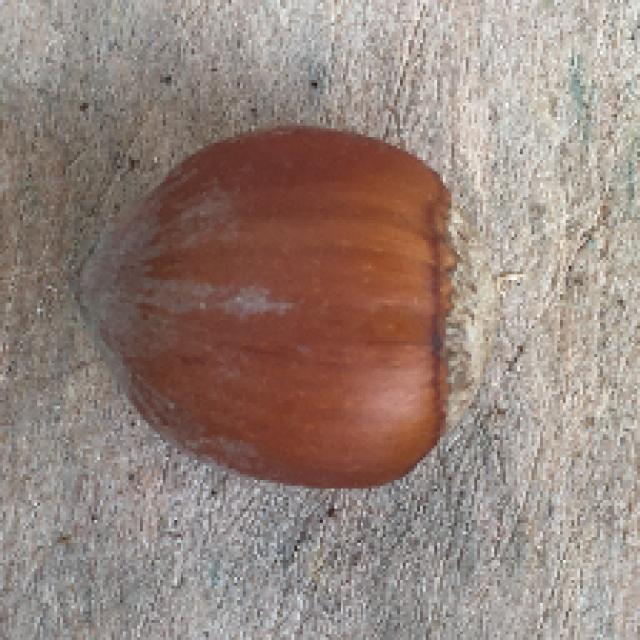qualityHazelnut: (94, 126, 480, 494)
